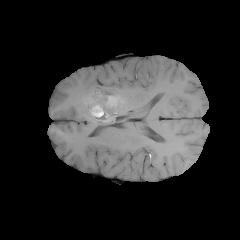glioma: (76, 83, 123, 122)
